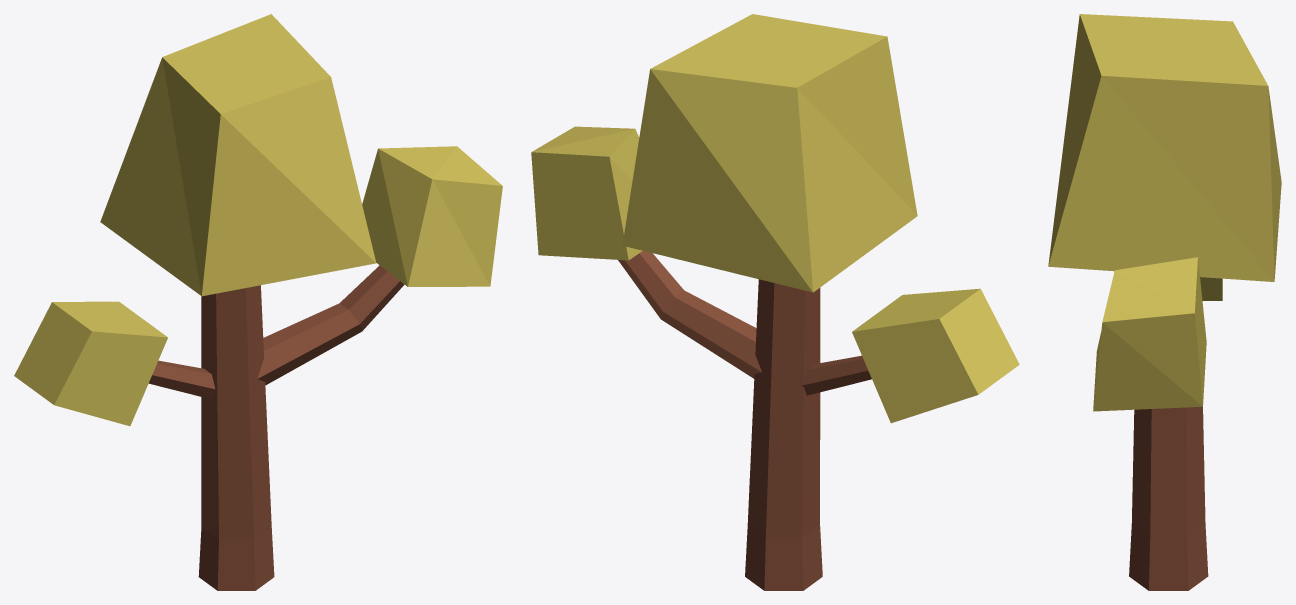
Rendered from Tree_44_autumn_mat.fbx.
3 views of the same model, side by side, from view 1: azimuth 30°, elevation 25°; view 2: azimuth 150°, elevation 25°; view 3: azimuth 270°, elevation 25° (orthographic). The views are drawn at different scales.
Parts seen in each view (by area): view 1: Tree_44_autumn_mat; view 2: Tree_44_autumn_mat; view 3: Tree_44_autumn_mat.
Boxes of the visible parts, left/top/right/bottom form: Tree_44_autumn_mat: left=14, top=14, right=502, bottom=590; Tree_44_autumn_mat: left=531, top=14, right=1019, bottom=590; Tree_44_autumn_mat: left=1048, top=14, right=1281, bottom=590.
Size of the model in its own units: 162 by 179 by 70.99.
